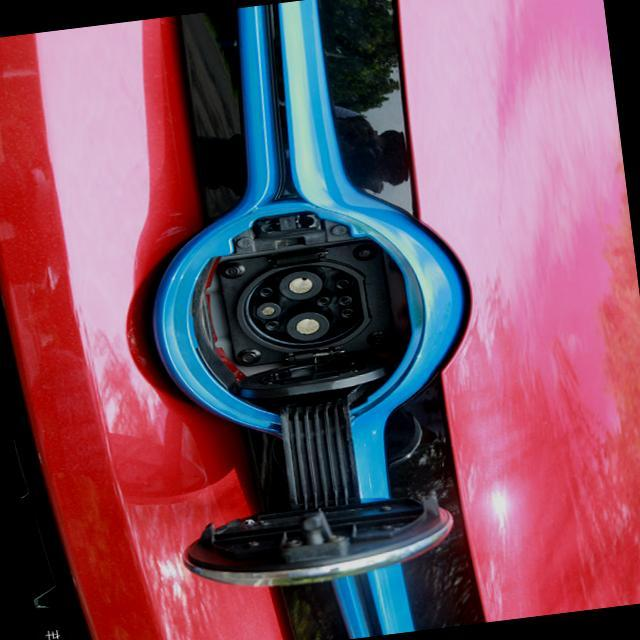GB-T: (210, 252, 404, 371)
